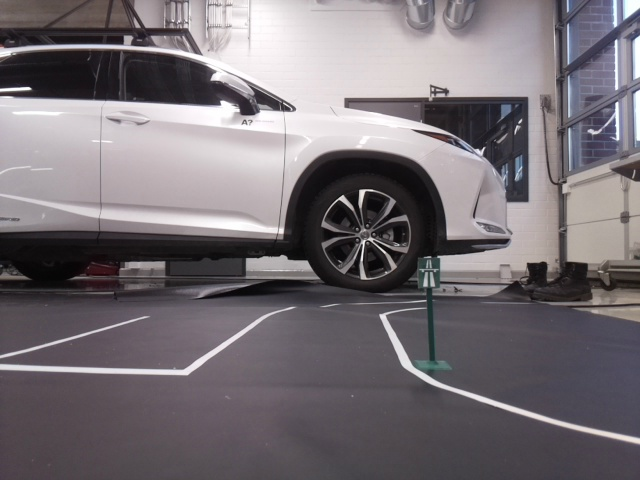HighwayEntrance: (418, 258, 438, 287)
